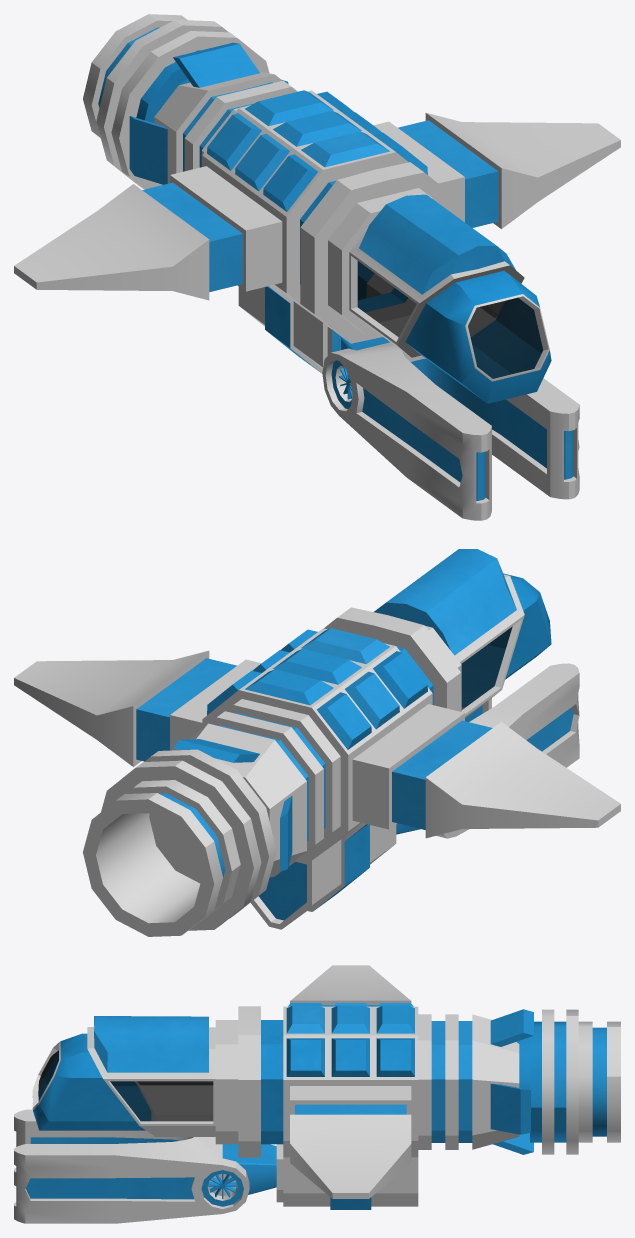
Rendered from BAD.fbx.
The picture shows the model from 3 angles, top to bottom: view 1: azimuth 30°, elevation 25°; view 2: azimuth 150°, elevation 25°; view 3: azimuth 270°, elevation 25°; orthographic projection. The views are drawn at different scales.
Parts seen in each view (by area): view 1: BAD; view 2: BAD; view 3: BAD.
Part boxes in pixels (box(x1,y1,x2,y2)): BAD: box(14, 14, 620, 520); BAD: box(14, 549, 620, 936); BAD: box(14, 965, 620, 1223).
Size of the model in its own units: 8 by 3.15 by 9.
